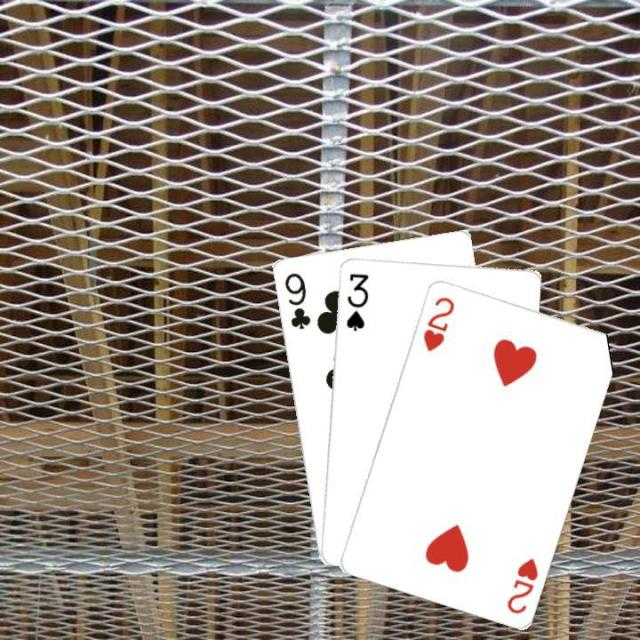2H: (502, 553, 540, 615), (419, 292, 456, 353)
3S: (341, 268, 370, 332)
9C: (280, 268, 312, 332)
